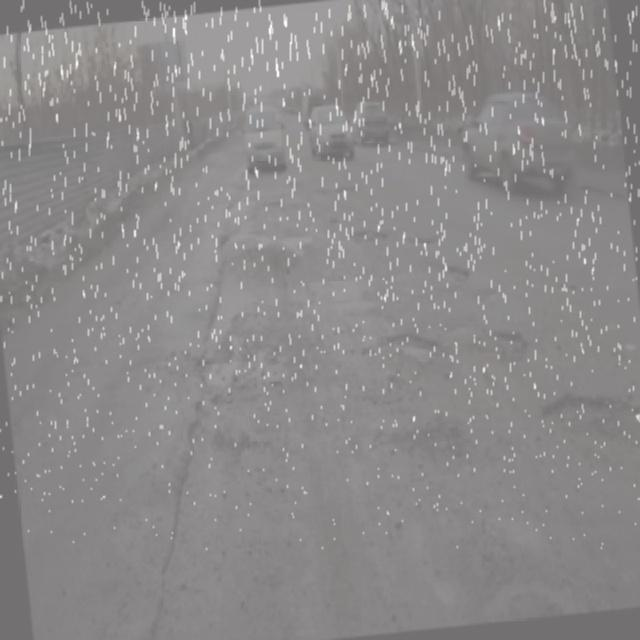Pothole: (344, 396, 519, 558), (160, 248, 272, 492), (546, 391, 640, 486), (480, 310, 552, 385), (378, 324, 455, 384), (436, 250, 482, 293), (347, 222, 376, 246), (405, 240, 463, 248)
